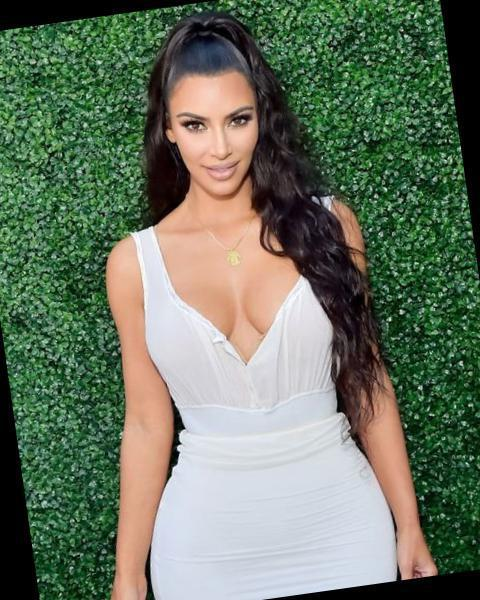Sober: (175, 75, 257, 191)
